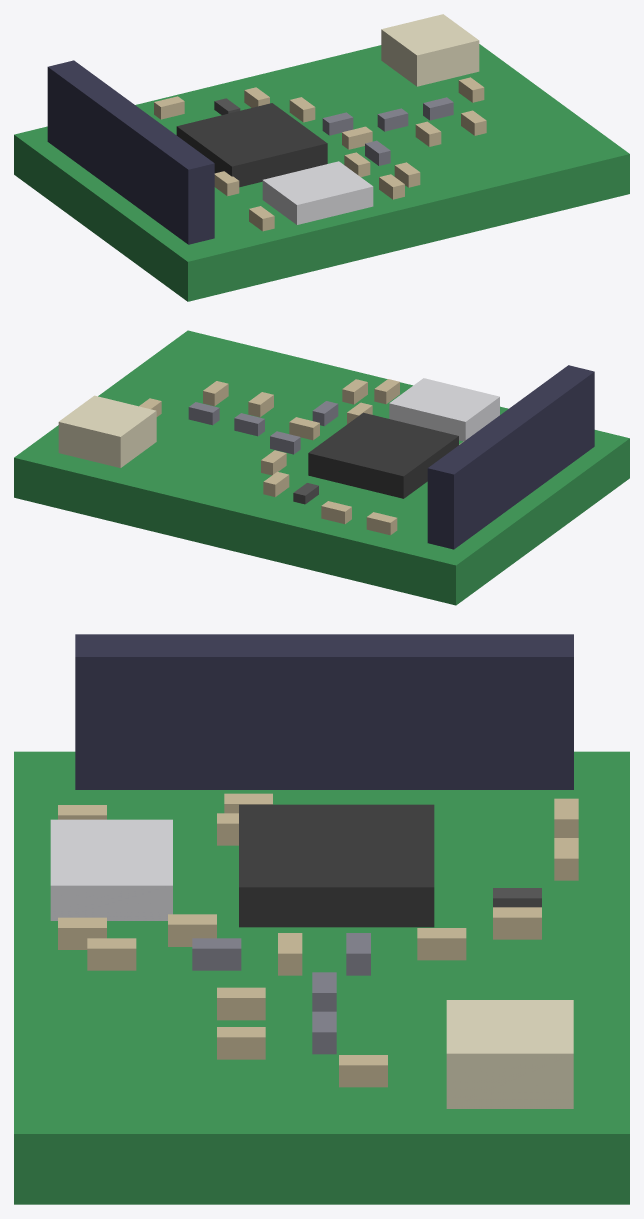
File: cc1101-mini.glb
The picture shows the model from 3 angles, top to bottom: view 1: azimuth 30°, elevation 25°; view 2: azimuth 150°, elevation 25°; view 3: azimuth 270°, elevation 25°; orthographic projection. The views are drawn at different scales.
Visible parts, largest first — view 1: board, J2, U1, J1, Y1, L122, L131, C181, L123, C121, C125, C131 (+8 smaller); view 2: board, J2, U1, J1, Y1, C1, L123, C181, L131, L122, C121, C151 (+7 smaller); view 3: board, J2, U1, J1, Y1, C122, C124, L121, C131, C123, C125, C151 (+9 smaller).
Boxes of the visible parts, bbox=[...] form: board: bbox=[14, 44, 629, 301]; J2: bbox=[47, 60, 214, 244]; U1: bbox=[176, 103, 327, 187]; J1: bbox=[381, 14, 479, 86]; Y1: bbox=[262, 161, 373, 224]; L122: bbox=[377, 108, 408, 131]; L131: bbox=[322, 112, 353, 135]; C181: bbox=[154, 96, 184, 119]; L123: bbox=[423, 97, 453, 120]; C121: bbox=[342, 126, 372, 149]; C125: bbox=[458, 77, 484, 102]; C131: bbox=[289, 97, 315, 122]; board: bbox=[14, 330, 629, 605]; J2: bbox=[427, 365, 594, 549]; U1: bbox=[308, 412, 458, 498]; J1: bbox=[58, 395, 156, 467]; Y1: bbox=[389, 378, 499, 441]; C1: bbox=[366, 512, 397, 535]; L123: bbox=[188, 402, 219, 425]; C181: bbox=[321, 501, 351, 524]; L131: bbox=[270, 431, 300, 454]; L122: bbox=[234, 413, 264, 436]; C121: bbox=[289, 417, 319, 440]; C151: bbox=[263, 471, 289, 496]; board: bbox=[14, 751, 629, 1204]; J2: bbox=[75, 634, 573, 789]; U1: bbox=[239, 804, 434, 927]; J1: bbox=[446, 1000, 573, 1108]; Y1: bbox=[50, 819, 172, 920]; C122: bbox=[217, 987, 265, 1020]; C124: bbox=[87, 938, 136, 970]; L121: bbox=[192, 938, 241, 970]; C131: bbox=[417, 928, 466, 960]; C123: bbox=[217, 1027, 265, 1059]; C125: bbox=[339, 1055, 387, 1087]; C151: bbox=[493, 907, 541, 939].
Bounding box in the file's own units: 0.0185 × 0.0046 × 0.0126.
